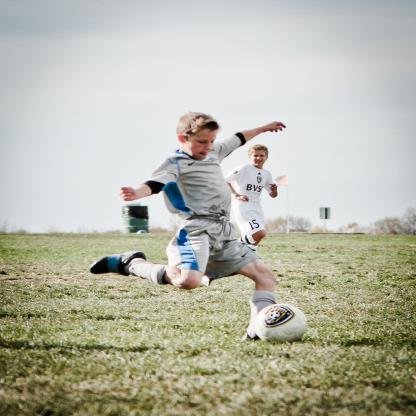Ball: (255, 305, 309, 342)
